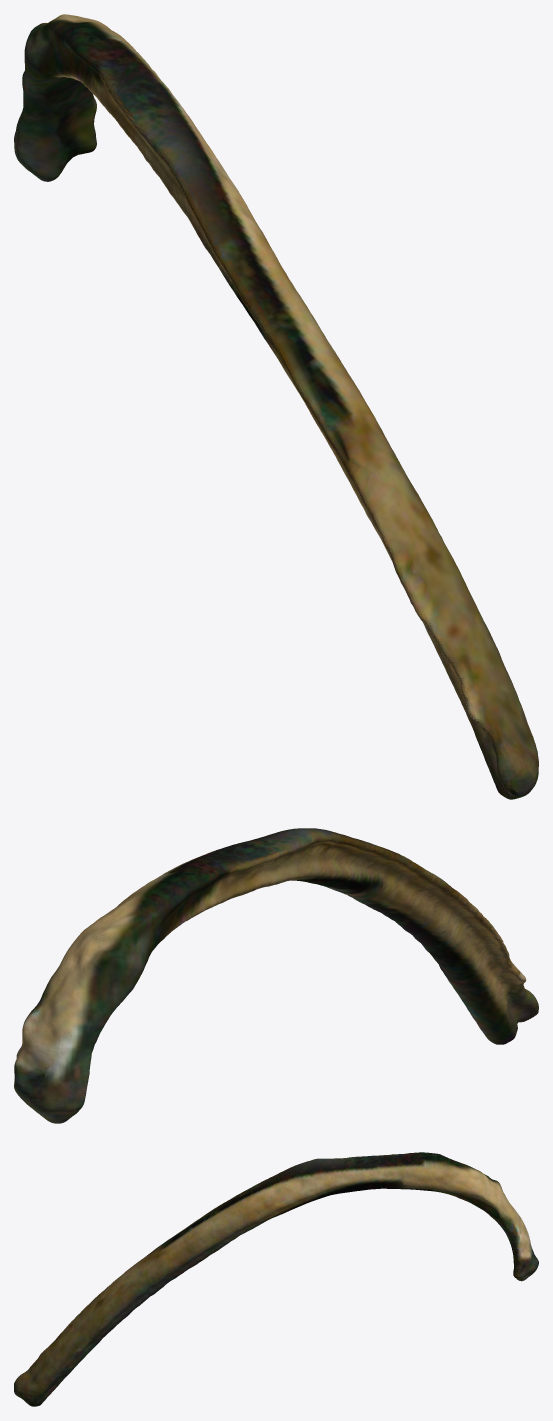
The model's file is 11_ribs.glb.
3 renders of one model, top to bottom at view 1: azimuth 30°, elevation 25°; view 2: azimuth 150°, elevation 25°; view 3: azimuth 270°, elevation 25°, orthographic. The views are drawn at different scales.
Parts seen in each view (by area): view 1: Node; view 2: Node; view 3: Node.
Boxes of the visible parts, x1,y1,x2,y2 form: Node: [14, 14, 538, 799]; Node: [14, 828, 538, 1123]; Node: [14, 1152, 538, 1406].
Size of the model in its own units: 9.69 by 31.54 by 61.81.
Materials: 1 (1 with a texture image).
